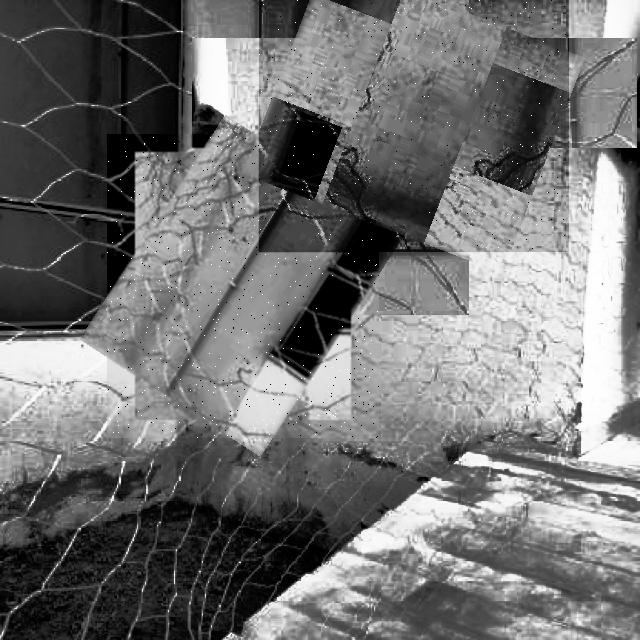anomaly-fence: (107, 134, 379, 438), (259, 0, 569, 252)
